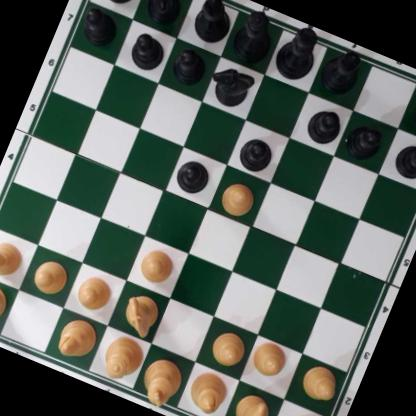black-bishop: (315, 39, 368, 101), (188, 0, 240, 47)
black-king: (268, 20, 326, 86)
black-knight: (205, 62, 257, 108), (140, 0, 192, 29)
black-pawn: (167, 43, 213, 92), (76, 4, 122, 51), (234, 130, 279, 177), (343, 117, 387, 163), (126, 27, 169, 73), (303, 104, 345, 148), (172, 155, 214, 197), (390, 137, 416, 184)
black-queen: (228, 5, 283, 66)
black-rook: (408, 80, 416, 140), (89, 0, 149, 7)
white-bishop: (53, 312, 101, 364), (183, 367, 232, 416)
white-king: (135, 351, 185, 410)
white-knight: (117, 289, 165, 340), (225, 389, 275, 416)
white-pawn: (135, 243, 180, 288), (298, 361, 343, 405), (72, 270, 116, 315), (248, 337, 291, 381), (29, 255, 72, 298), (206, 326, 249, 369), (216, 177, 260, 219), (0, 234, 29, 281)
white-queen: (94, 329, 151, 386)
white-rook: (0, 274, 12, 331), (275, 409, 333, 416)
